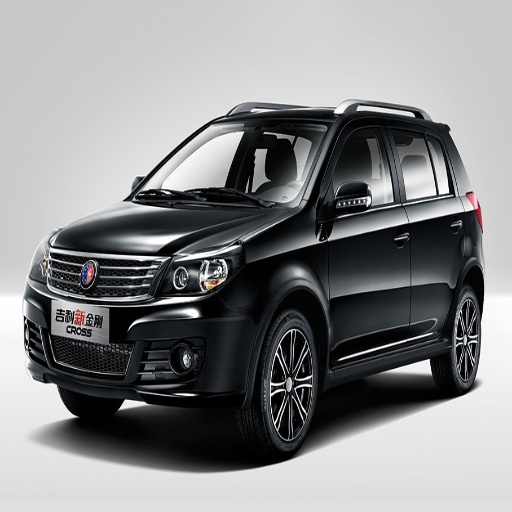front_bumper: (27, 246, 269, 405)
front_glass: (128, 117, 334, 205)
front_left_door: (322, 117, 411, 354)
